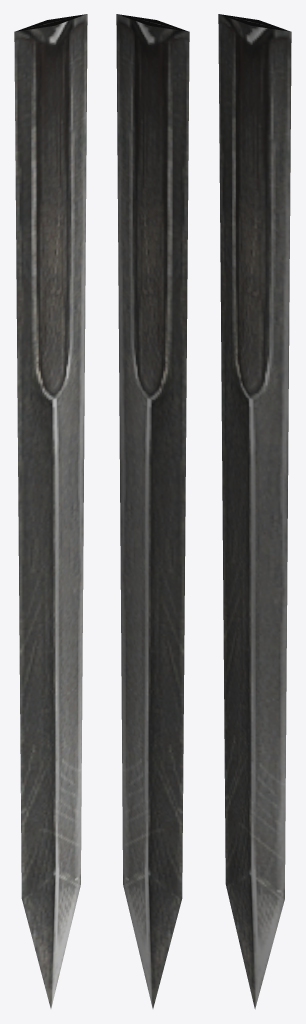
Rendered from Kuojian_body.FBX.
The picture shows the model from 3 angles, left to right: view 1: azimuth 30°, elevation 25°; view 2: azimuth 150°, elevation 25°; view 3: azimuth 330°, elevation 25°; orthographic projection.
Visible parts, largest first — view 1: Kuojian_body; view 2: Kuojian_body; view 3: Kuojian_body.
Boxes of the visible parts, bbox=[...] form: Kuojian_body: bbox=[14, 14, 87, 1008]; Kuojian_body: bbox=[116, 14, 189, 1008]; Kuojian_body: bbox=[218, 14, 291, 1009].
Size of the model in its own units: 9.56 by 123 by 1.95.
1 material, 1 textured.
